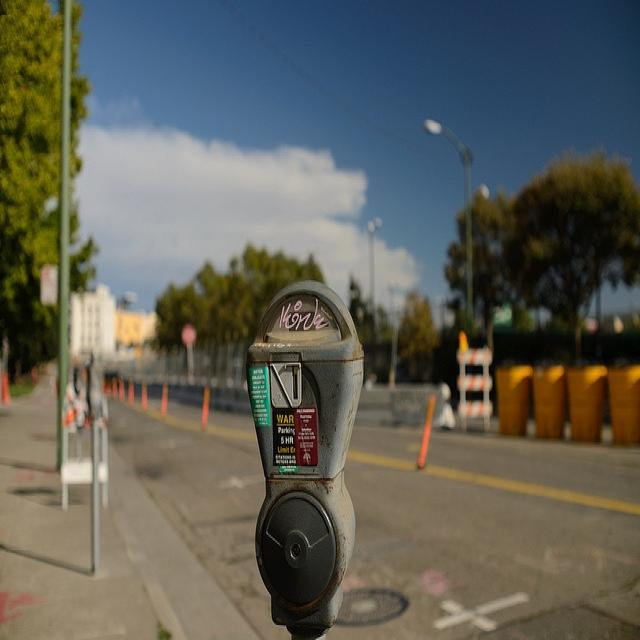pole: (53, 4, 74, 473)
warning_column: (414, 391, 434, 469), (199, 384, 210, 428), (159, 378, 168, 420), (139, 376, 148, 409), (127, 373, 134, 406), (117, 372, 123, 400)
